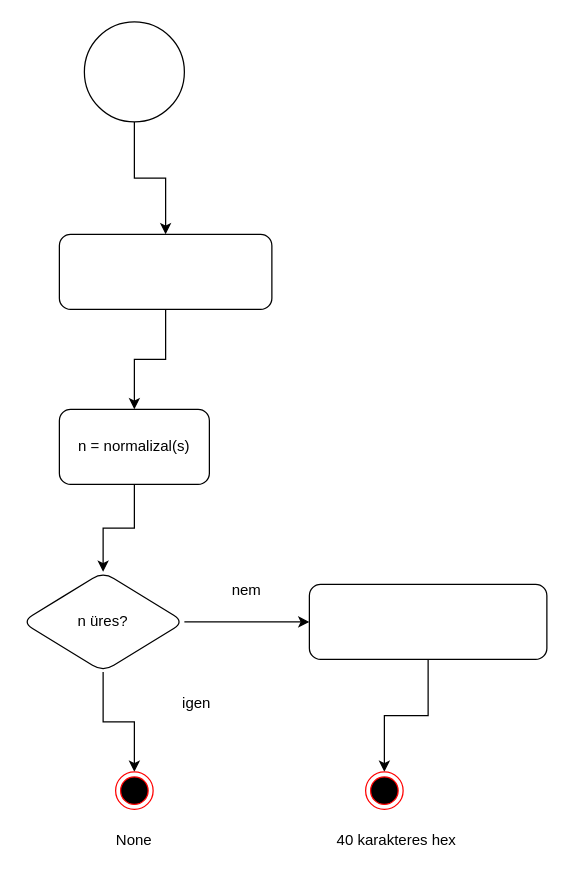
The diagram is 569 pixels wide and 881 high, and some of its shapes have lost their labels. The box of each missing label's shape, as (x1, y1, x2, y2) in pixels:
Bemenet: s (str | None): (58, 233, 272, 309)
SHA-1 hashn.encode().hexdigest(): (308, 583, 547, 659)
